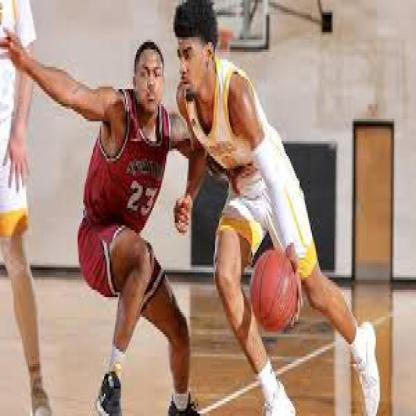basketball: (251, 247, 298, 332)
